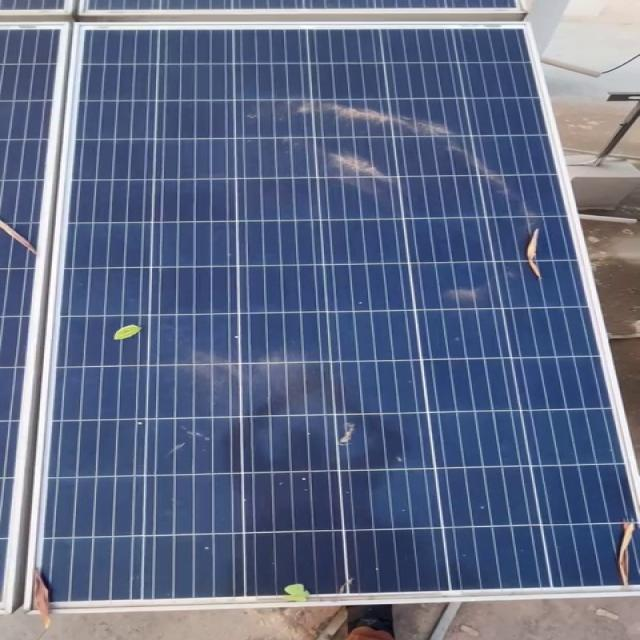dust_partical: (270, 93, 502, 200), (96, 319, 172, 345), (436, 288, 486, 308)
old_leaf: (518, 223, 562, 281), (33, 562, 62, 628), (273, 574, 320, 608)
